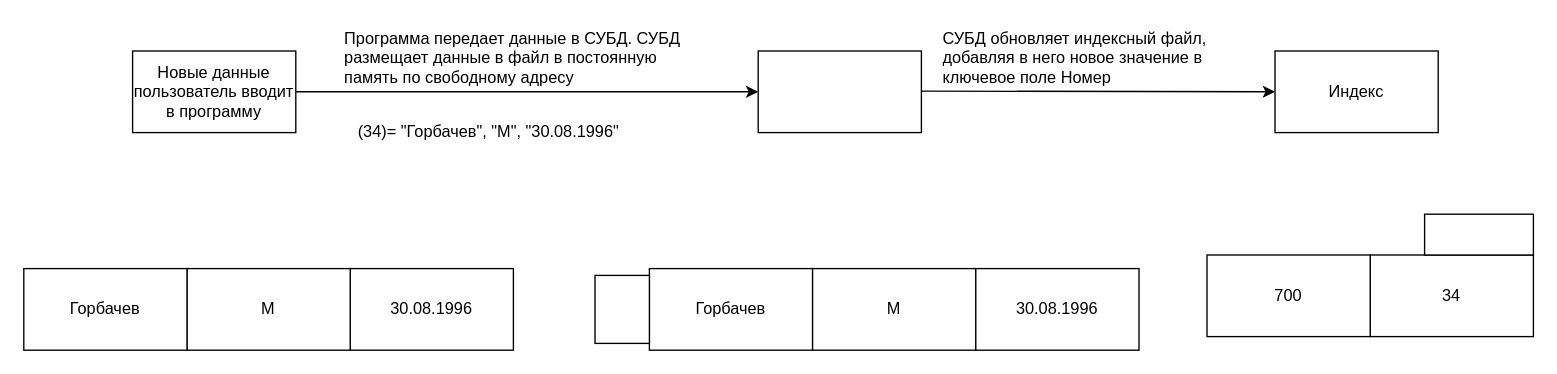
Image size: 1557x374. Some labels were removed from this diagram. The centre of each missing label's shape, as x and y in pixels:
Ключ "номер": the point at 1478,234
Номер ячейки- 700: the point at 621,308
Память: the point at 839,91
